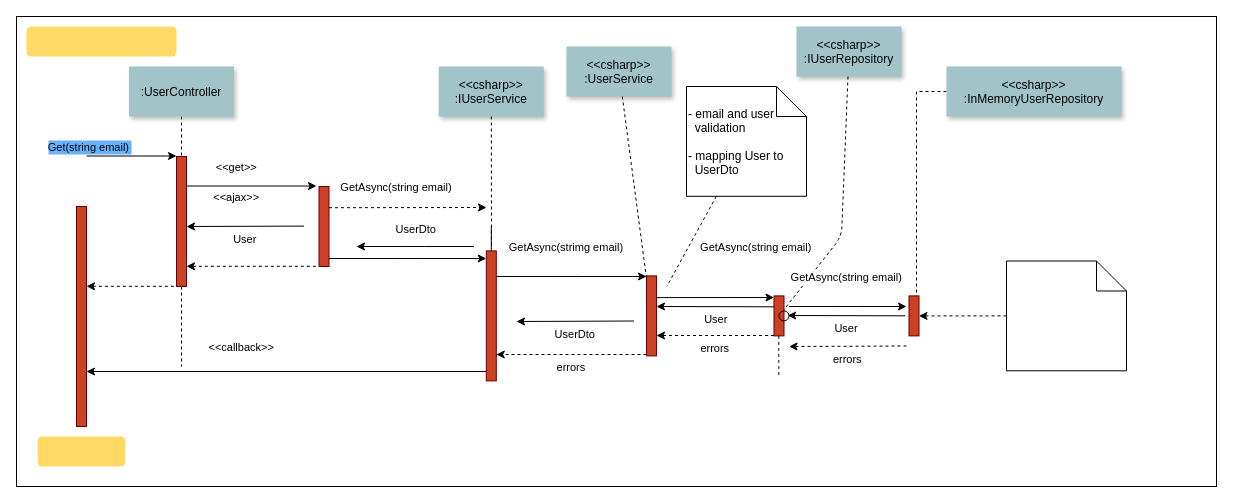
Some shapes in this 1233 by 503 pixel diagram are drawn without their labels. The shapes that lost their labels are listed below. From the top down, each one's centre as x and y in pixels, then its label:
At (101,41): "Get user by email".
At (1066,315): "- get SingleOrDefault - Where email is equal".
At (81,451): "HTML View".
